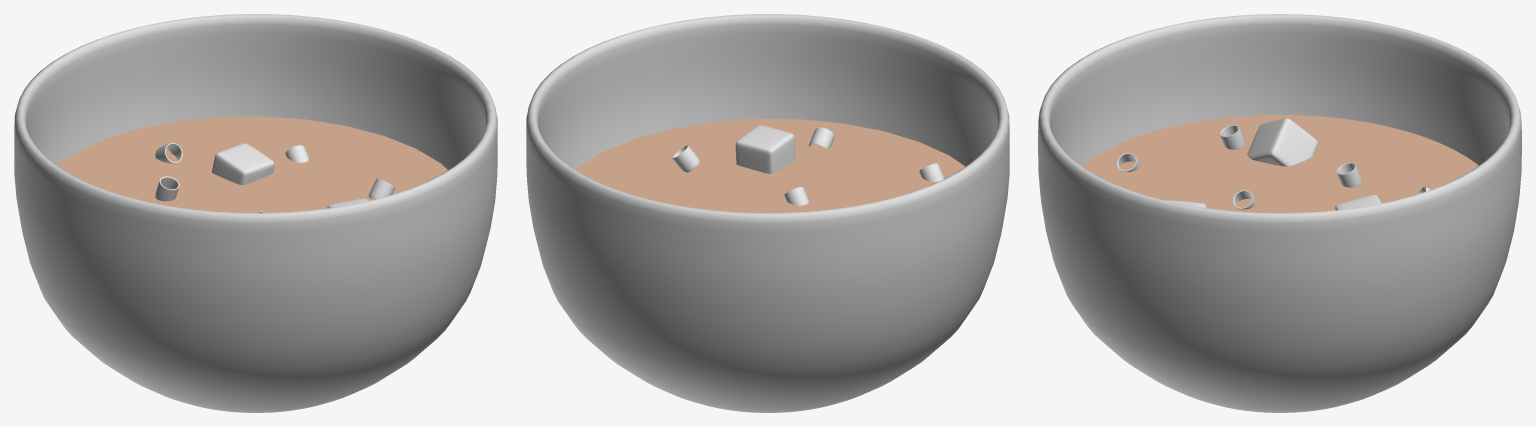
The model's file is soup.fbx.
3 views of the same model, side by side, from view 1: azimuth 30°, elevation 25°; view 2: azimuth 150°, elevation 25°; view 3: azimuth 270°, elevation 25° (orthographic).
Visible parts, largest first — view 1: Bowl, Cylinder004.001, Cube.002, Cylinder.005; view 2: Bowl, Cylinder004.001, Cube.001, Cylinder.002; view 3: Bowl, Cylinder004.001, Cube, Cylinder.005, Cylinder.008.
Part boxes in pixels (box(x1,y1,x2,y2)): Bowl: box(14, 14, 497, 412); Cylinder004.001: box(57, 116, 447, 213); Cube.002: box(212, 143, 274, 185); Cylinder.005: box(155, 176, 179, 201); Bowl: box(526, 14, 1009, 412); Cylinder004.001: box(576, 119, 965, 213); Cube.001: box(735, 125, 795, 173); Cylinder.002: box(672, 145, 700, 172); Bowl: box(1038, 14, 1521, 412); Cylinder004.001: box(1083, 115, 1478, 213); Cube: box(1247, 118, 1317, 166); Cylinder.005: box(1336, 162, 1361, 187); Cylinder.008: box(1220, 125, 1245, 149).
Bounding box in the file's own units: 306 × 178 × 306.
